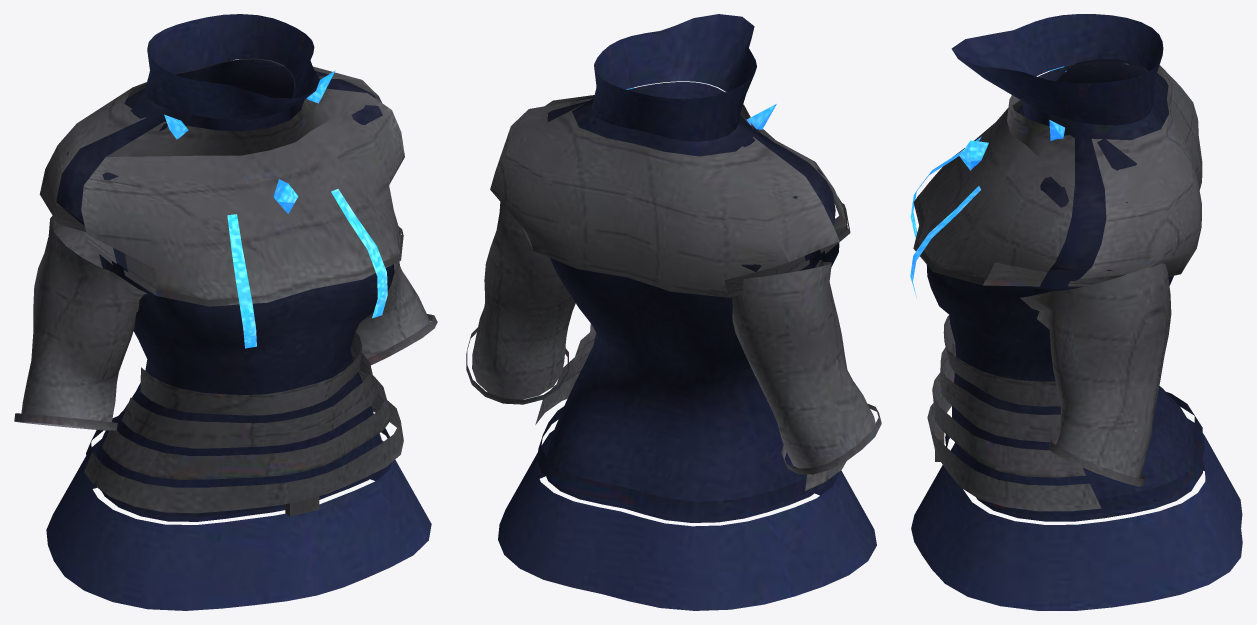
File: Peitoral_de_Cristal_nivel50.glb
The picture shows the model from 3 angles, left to right: view 1: azimuth 30°, elevation 25°; view 2: azimuth 150°, elevation 25°; view 3: azimuth 270°, elevation 25°; orthographic projection.
Visible parts, largest first — view 1: peitoral_de_cristal_nivel50; view 2: peitoral_de_cristal_nivel50; view 3: peitoral_de_cristal_nivel50.
Boxes of the visible parts, x1,y1,x2,y2 form: peitoral_de_cristal_nivel50: [14, 14, 437, 610]; peitoral_de_cristal_nivel50: [466, 14, 881, 610]; peitoral_de_cristal_nivel50: [910, 14, 1242, 610].
Size of the model in its own units: 0.6157 by 0.6876 by 0.4309.
Materials: 1 (1 with a texture image).
